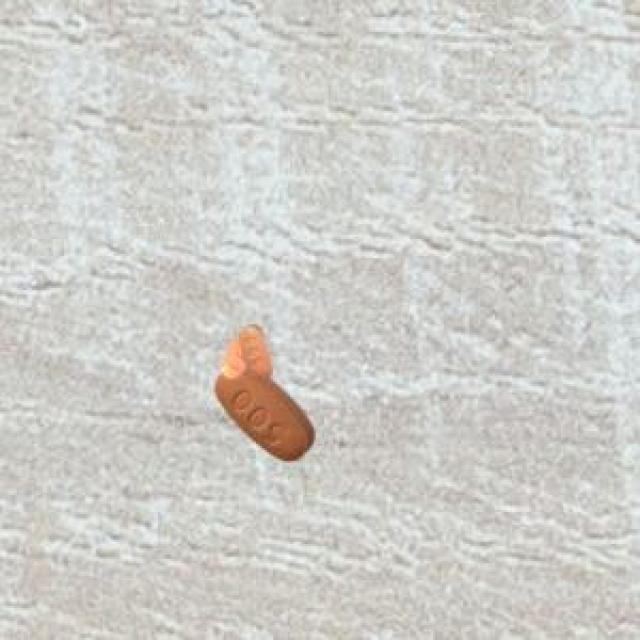Biogesic: (188, 316, 332, 473)
